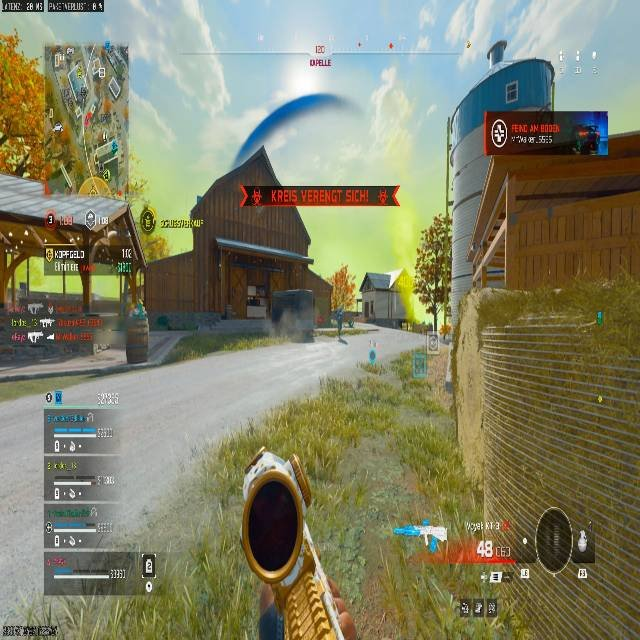player: (577, 124, 600, 154), (333, 307, 345, 340)
